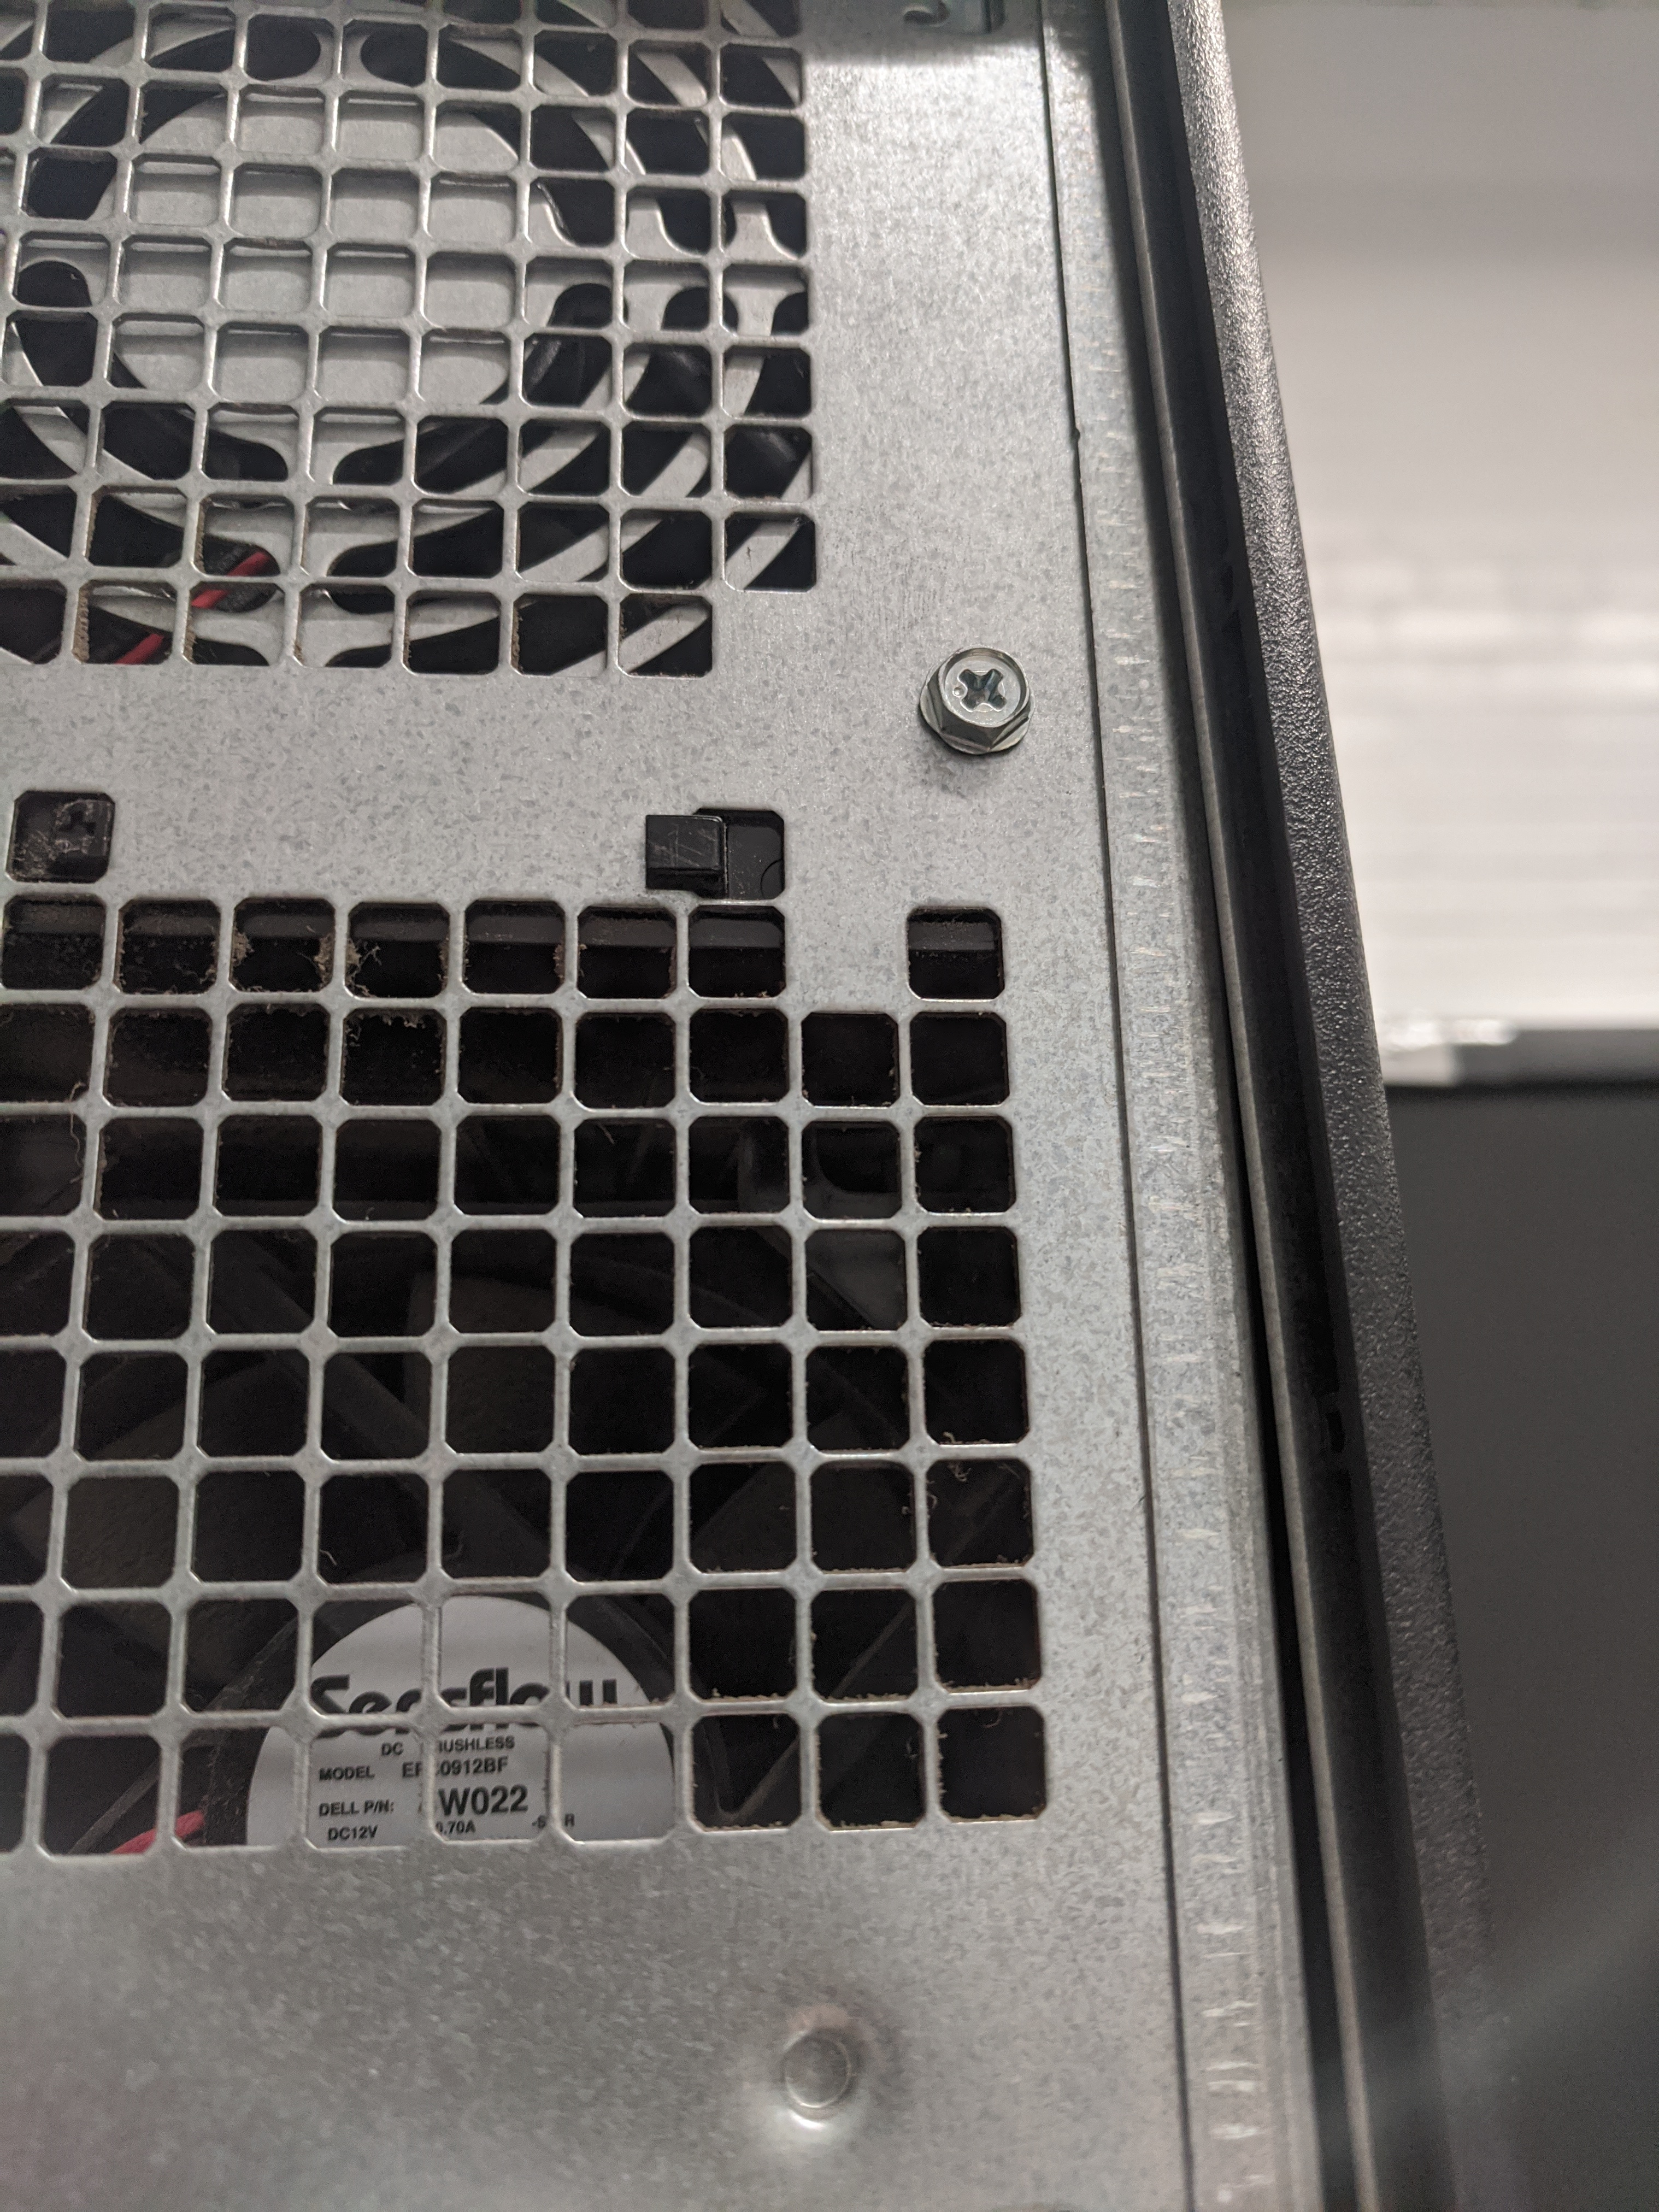cross_recessed_screw: (920, 634, 1040, 742)
